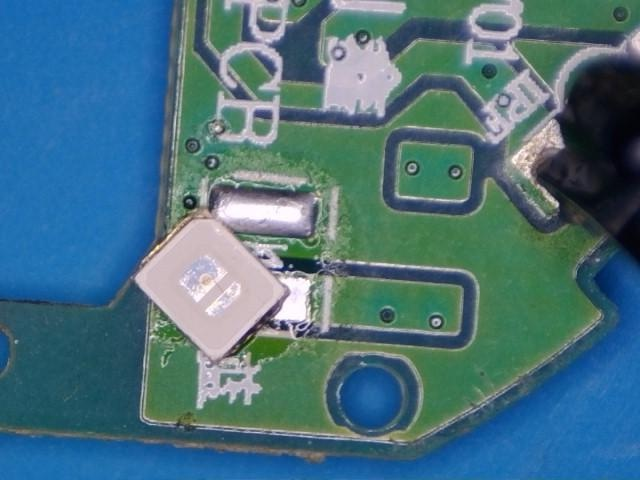pcb_defect: (130, 186, 316, 366)
